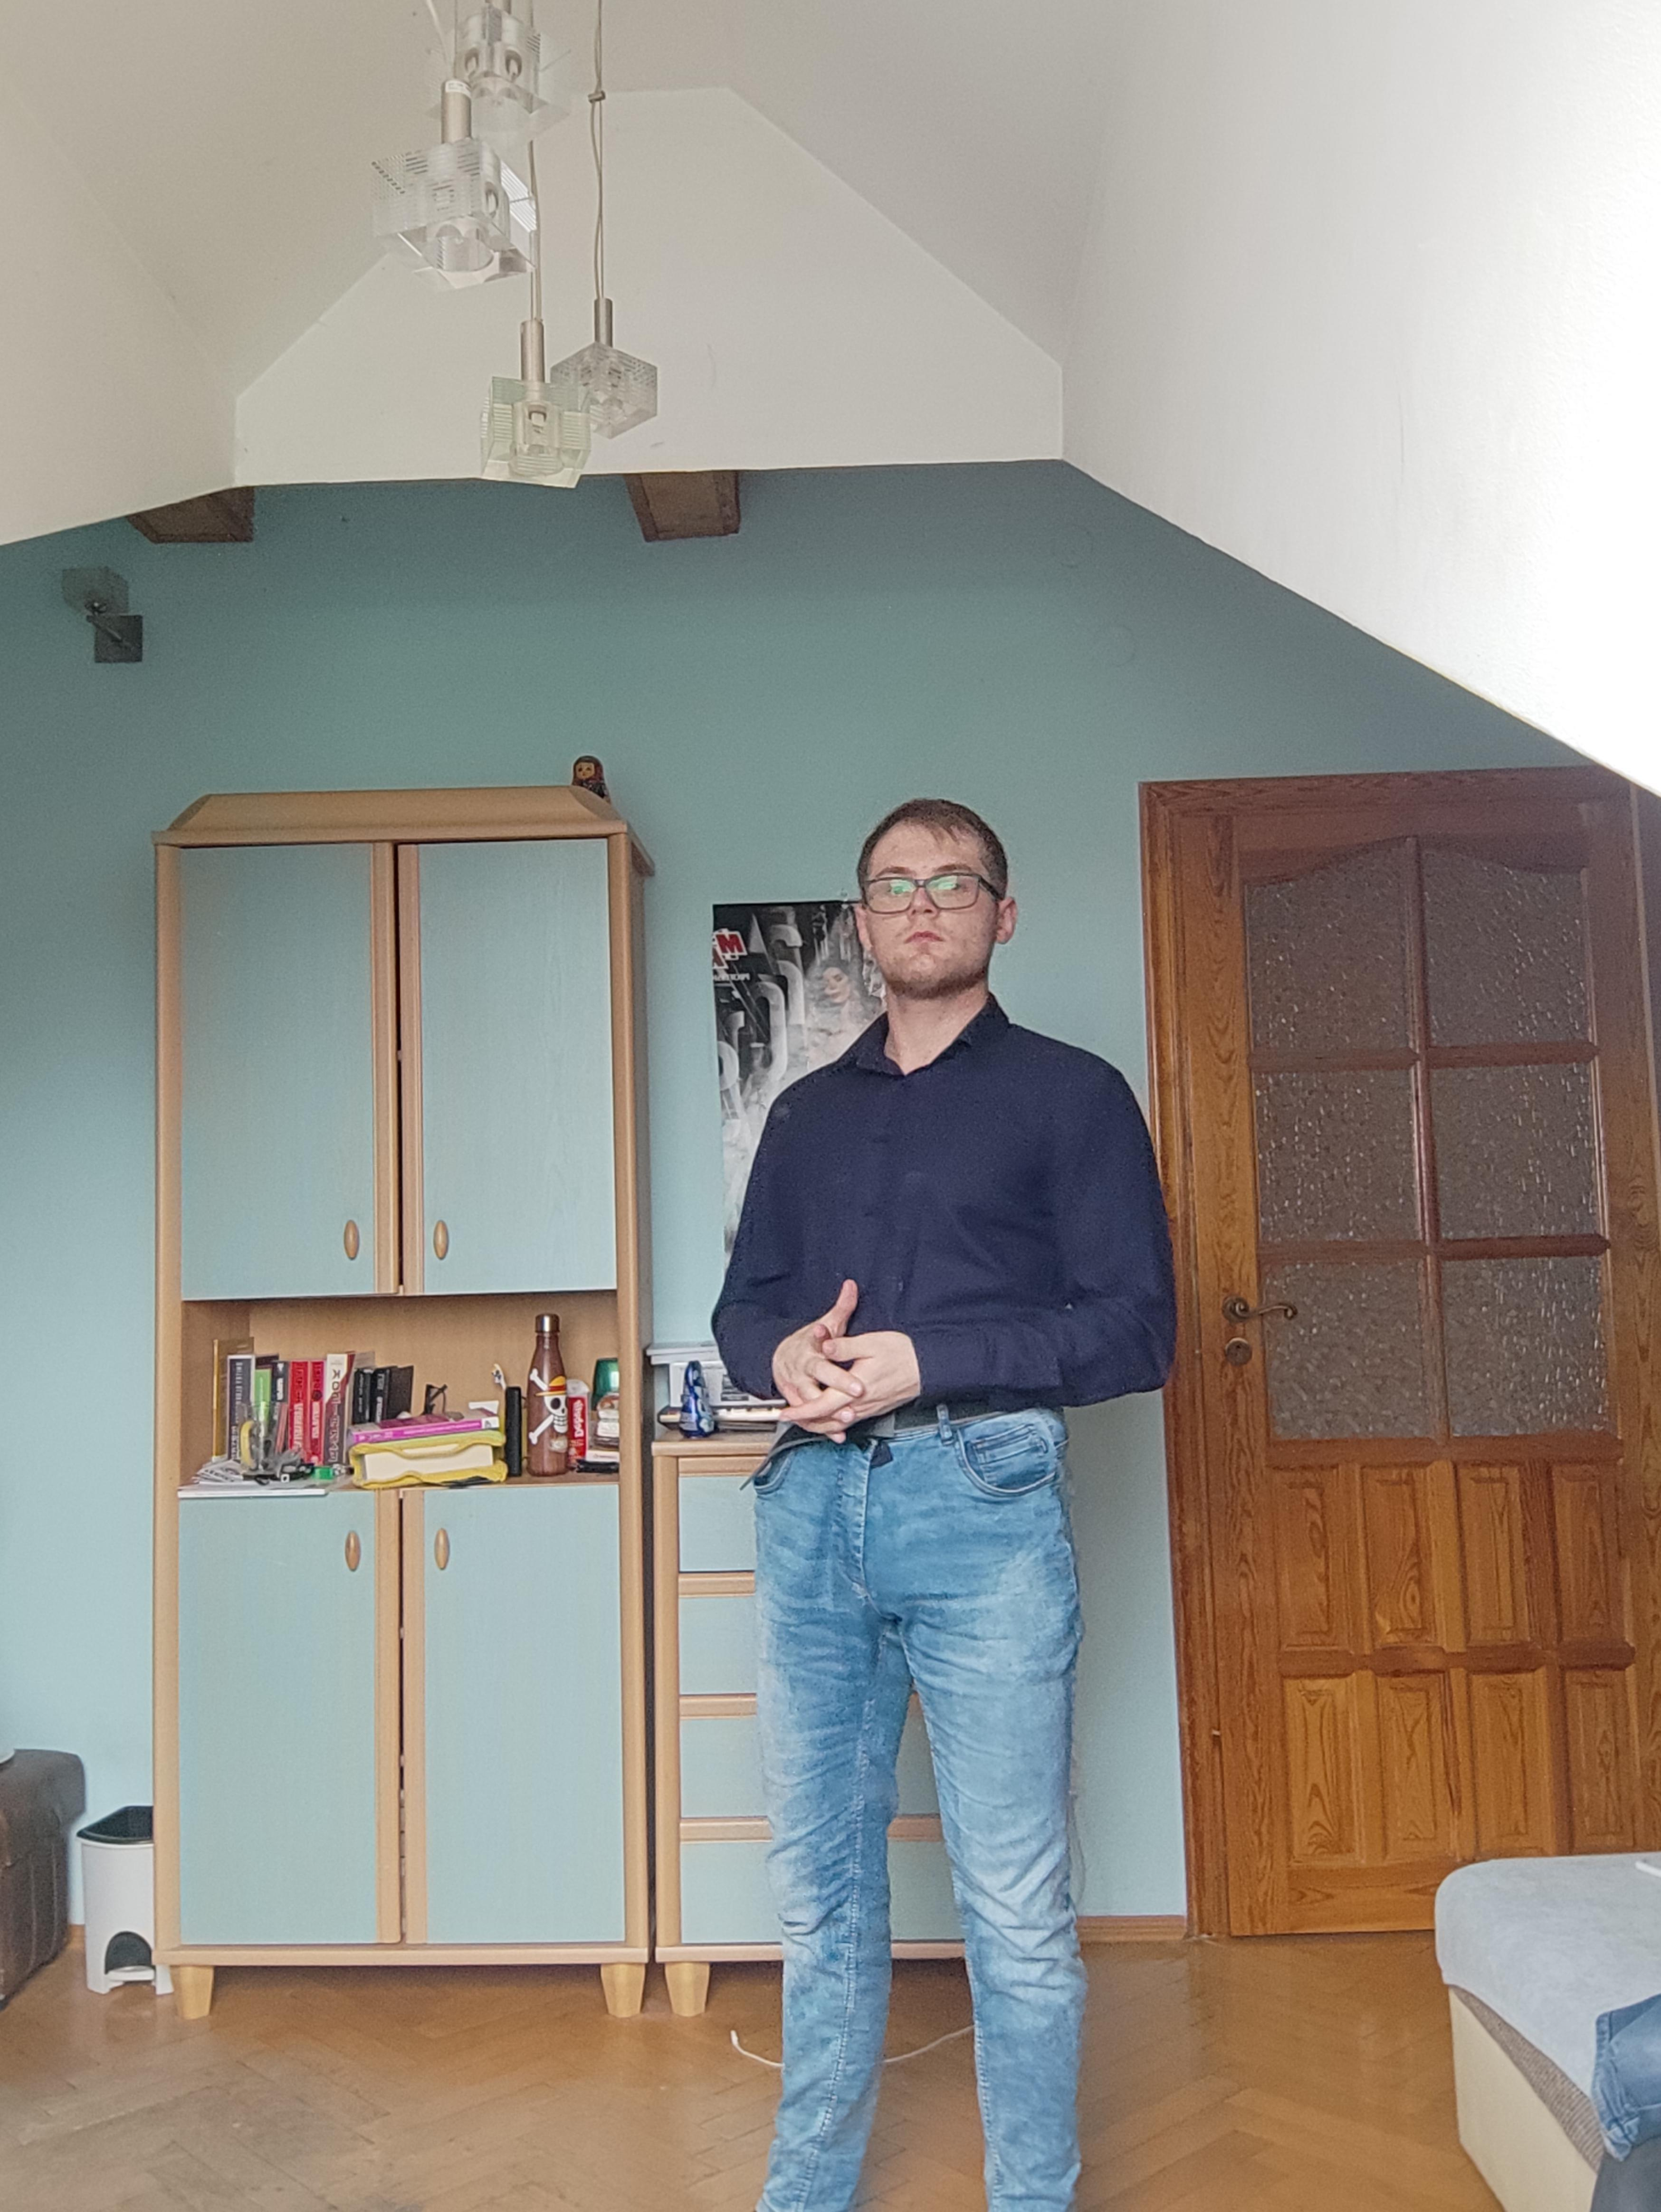pants: (752, 1382, 1087, 2212)
shirt: (712, 993, 1176, 1410)
